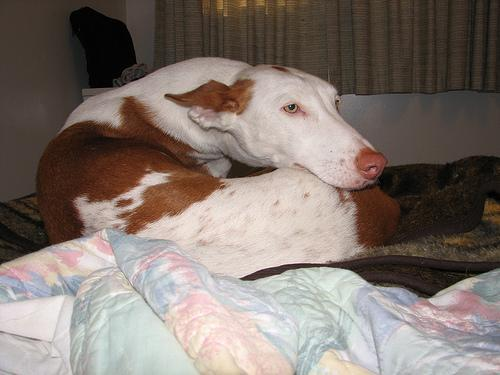Ibizan_hound: (31, 54, 399, 276)
